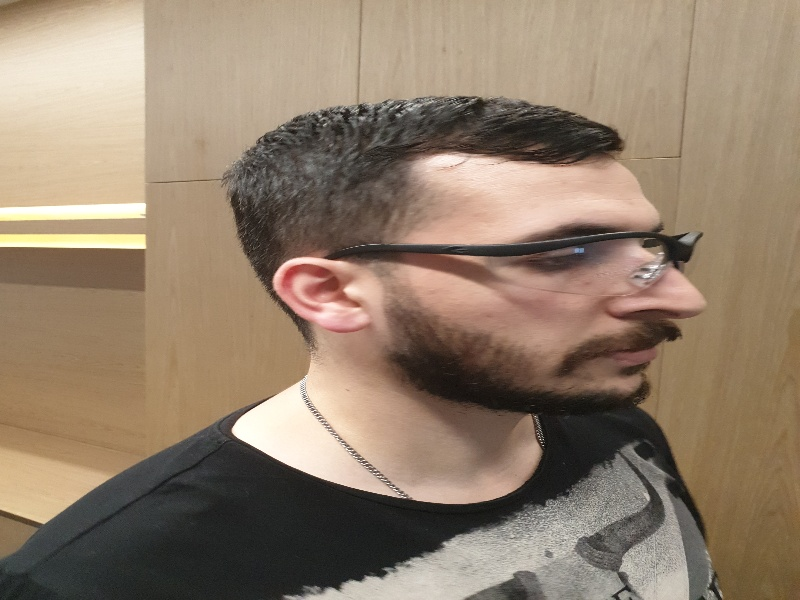Gozluk: (330, 232, 703, 289)
